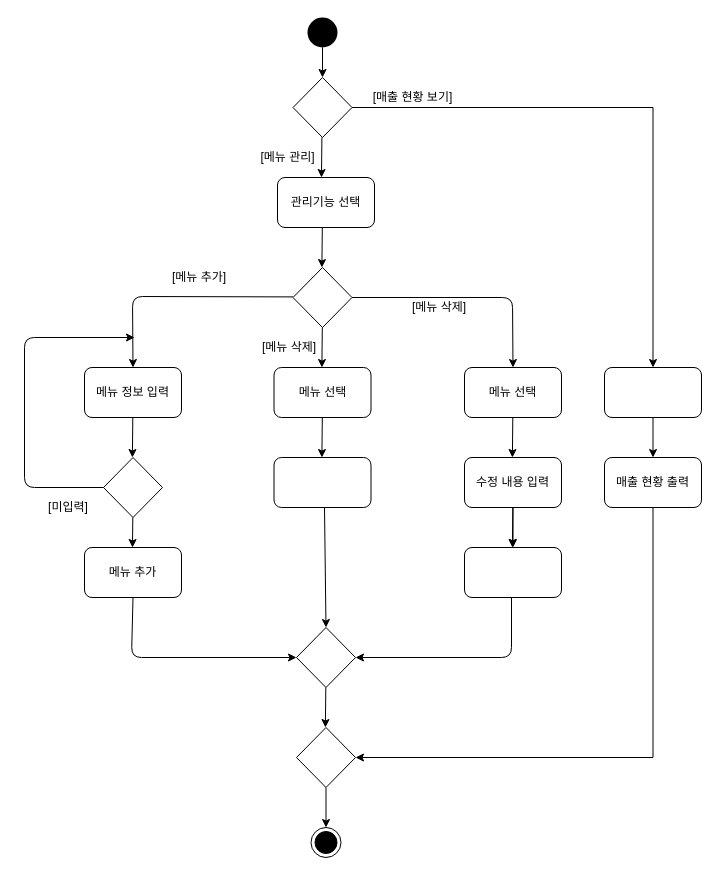
The diagram is 719 pixels wide and 875 high, and some of its shapes have lost their labels. The shapes that lost their labels are listed below. From the top down, each one's centre as x and y in pixels, then its label:
At point 653,392: "매출 현황 요청".
At point 322,482: "메뉴 삭제".
At point 513,572: "메뉴 수정".
